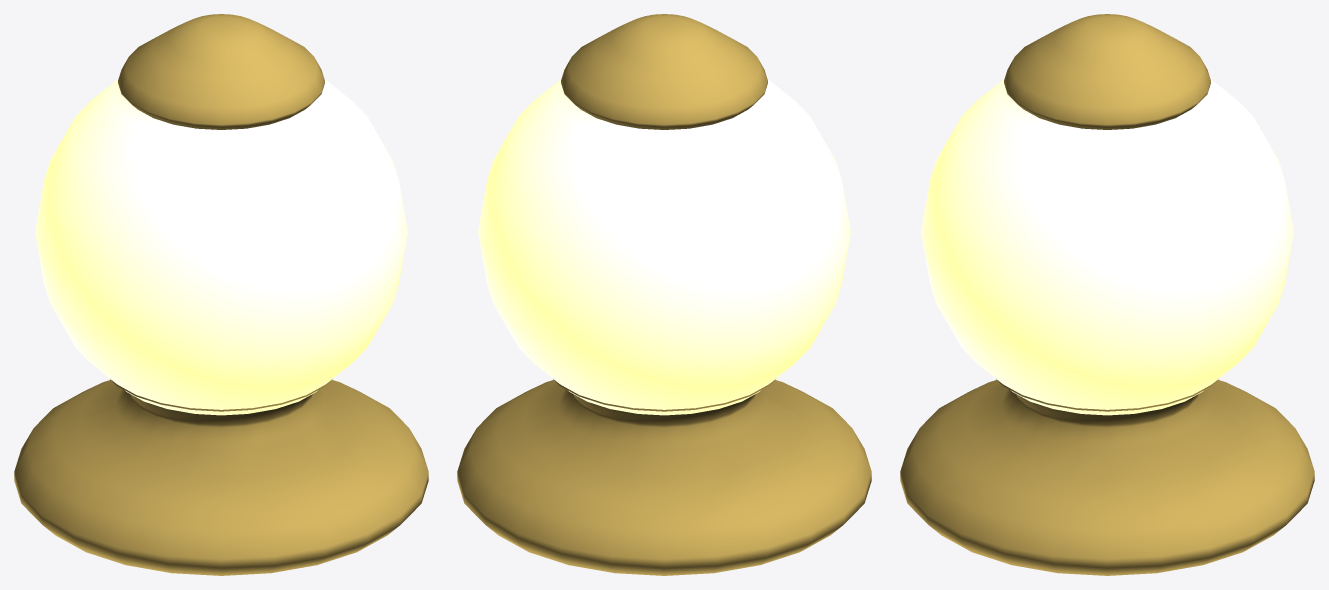
The model's file is carousel_lamp.glb.
3 views of the same model, side by side, from view 1: azimuth 30°, elevation 25°; view 2: azimuth 150°, elevation 25°; view 3: azimuth 270°, elevation 25° (orthographic).
Parts seen in each view (by area): view 1: CarouselLamp_Bulb, CarouselLamp_Housing; view 2: CarouselLamp_Bulb, CarouselLamp_Housing; view 3: CarouselLamp_Bulb, CarouselLamp_Housing.
Part boxes in pixels (x1,y1,x2,y2): CarouselLamp_Bulb: (35, 79, 407, 415); CarouselLamp_Housing: (14, 14, 428, 575); CarouselLamp_Bulb: (478, 79, 850, 415); CarouselLamp_Housing: (457, 14, 871, 575); CarouselLamp_Bulb: (921, 79, 1293, 415); CarouselLamp_Housing: (900, 14, 1314, 575).
Bounding box in the file's own units: 0.008 × 0.01 × 0.008.
